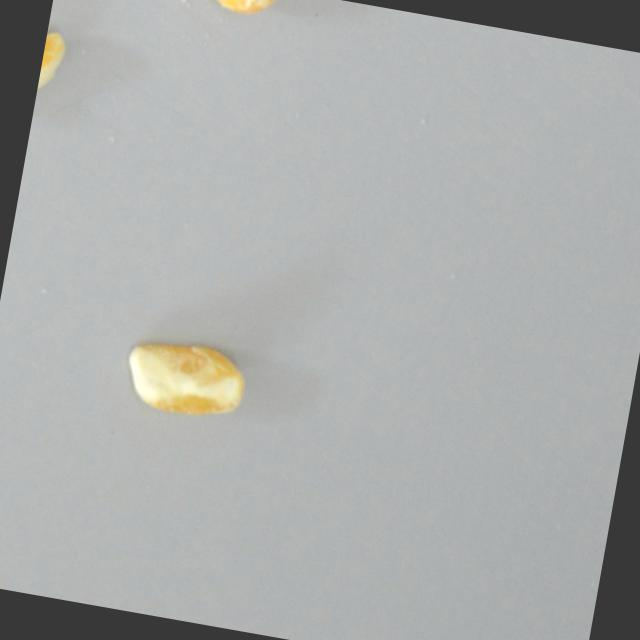dañado: (28, 28, 74, 138), (206, 0, 298, 26)
punto_negro: (114, 327, 254, 429)
